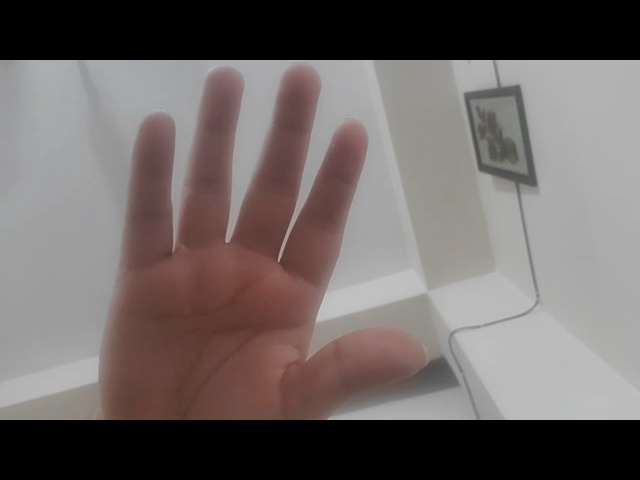Hello: (89, 64, 437, 416)
